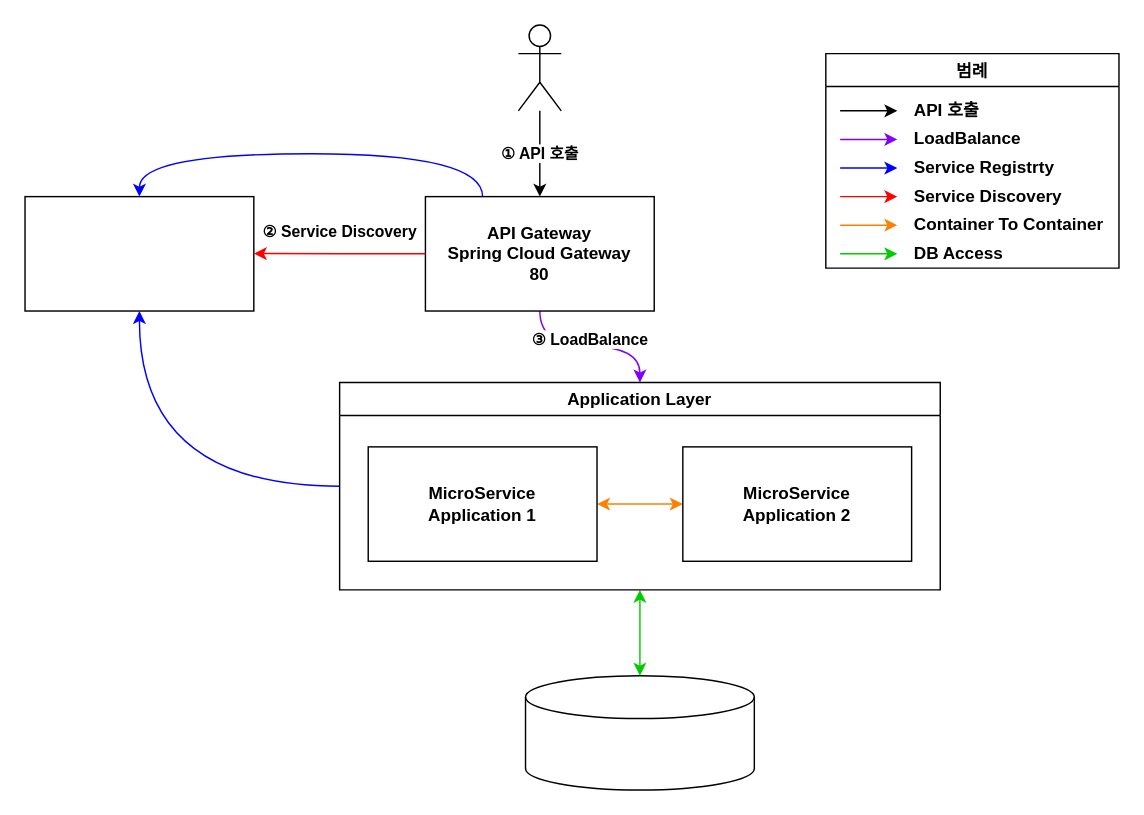
Some shapes in this 1144 by 815 pixel diagram are drawn without their labels. The shapes that lost their labels are listed below. From the top down, each one's centre as x and y in pixels, then its label:
At (x=139, y=253): "Service Discovery Eureka Server 8761".
At (x=639, y=732): "DB".
